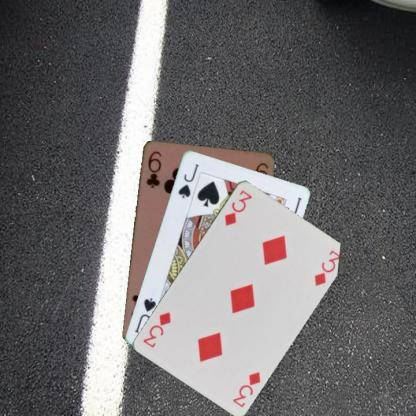3d: (222, 187, 254, 227), (230, 369, 262, 408)
6c: (144, 148, 162, 189)
Js: (175, 161, 201, 199)
